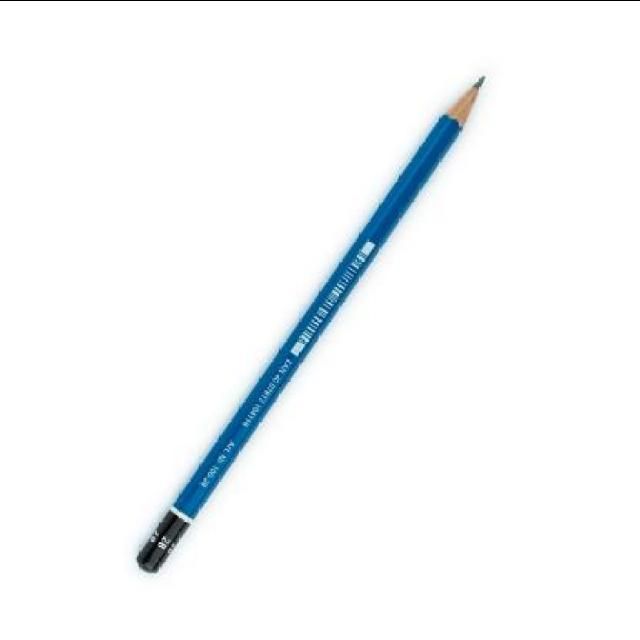Pencil: (419, 65, 492, 161)
